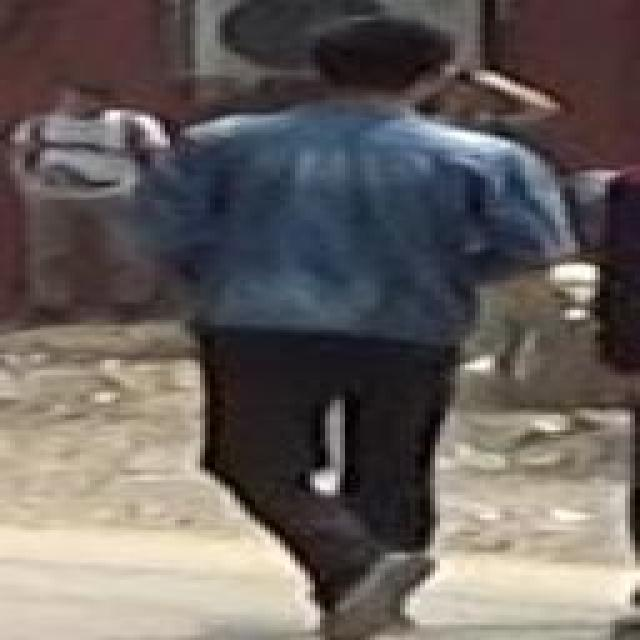adult: (165, 14, 508, 634), (3, 84, 208, 318)
